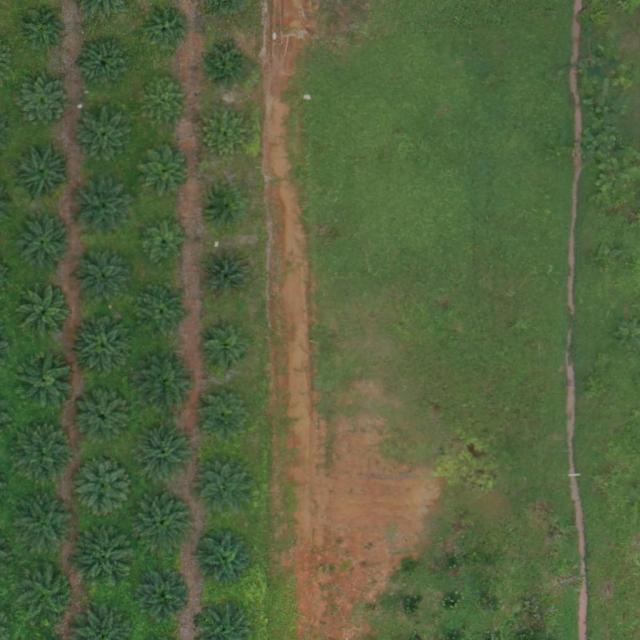Healthy: (10, 72, 73, 135), (10, 141, 73, 204), (72, 526, 135, 589), (132, 492, 195, 555), (194, 529, 257, 592), (134, 353, 197, 415), (70, 178, 132, 241), (13, 350, 75, 413), (13, 419, 75, 482), (16, 495, 78, 558), (73, 457, 135, 520), (137, 423, 199, 486), (72, 315, 134, 377), (18, 563, 80, 625), (79, 39, 134, 94), (138, 286, 193, 341), (76, 110, 131, 165), (76, 251, 131, 306), (77, 392, 132, 447), (136, 569, 191, 624), (16, 218, 70, 273), (18, 288, 72, 343), (198, 388, 252, 443), (198, 460, 252, 515), (139, 77, 186, 124)
Small: (200, 251, 255, 306), (198, 325, 253, 380), (136, 143, 190, 198), (144, 8, 191, 55), (143, 222, 190, 269), (201, 110, 248, 157), (205, 42, 252, 89), (203, 187, 243, 226)
